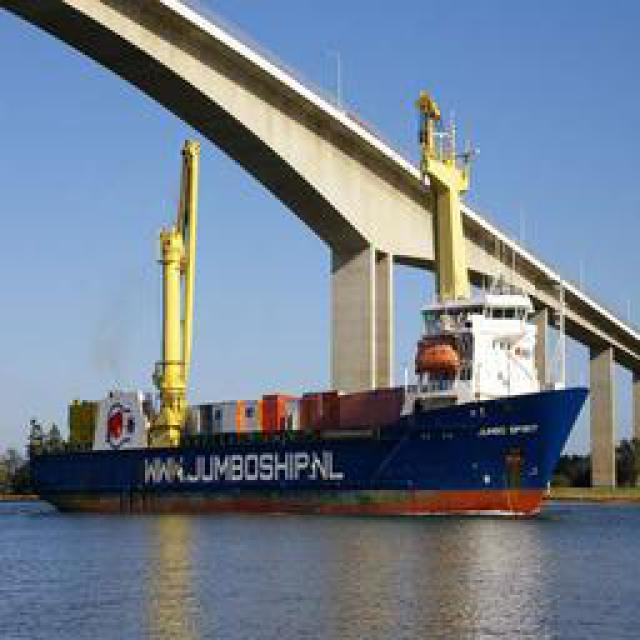Ship: (40, 386, 588, 516)
